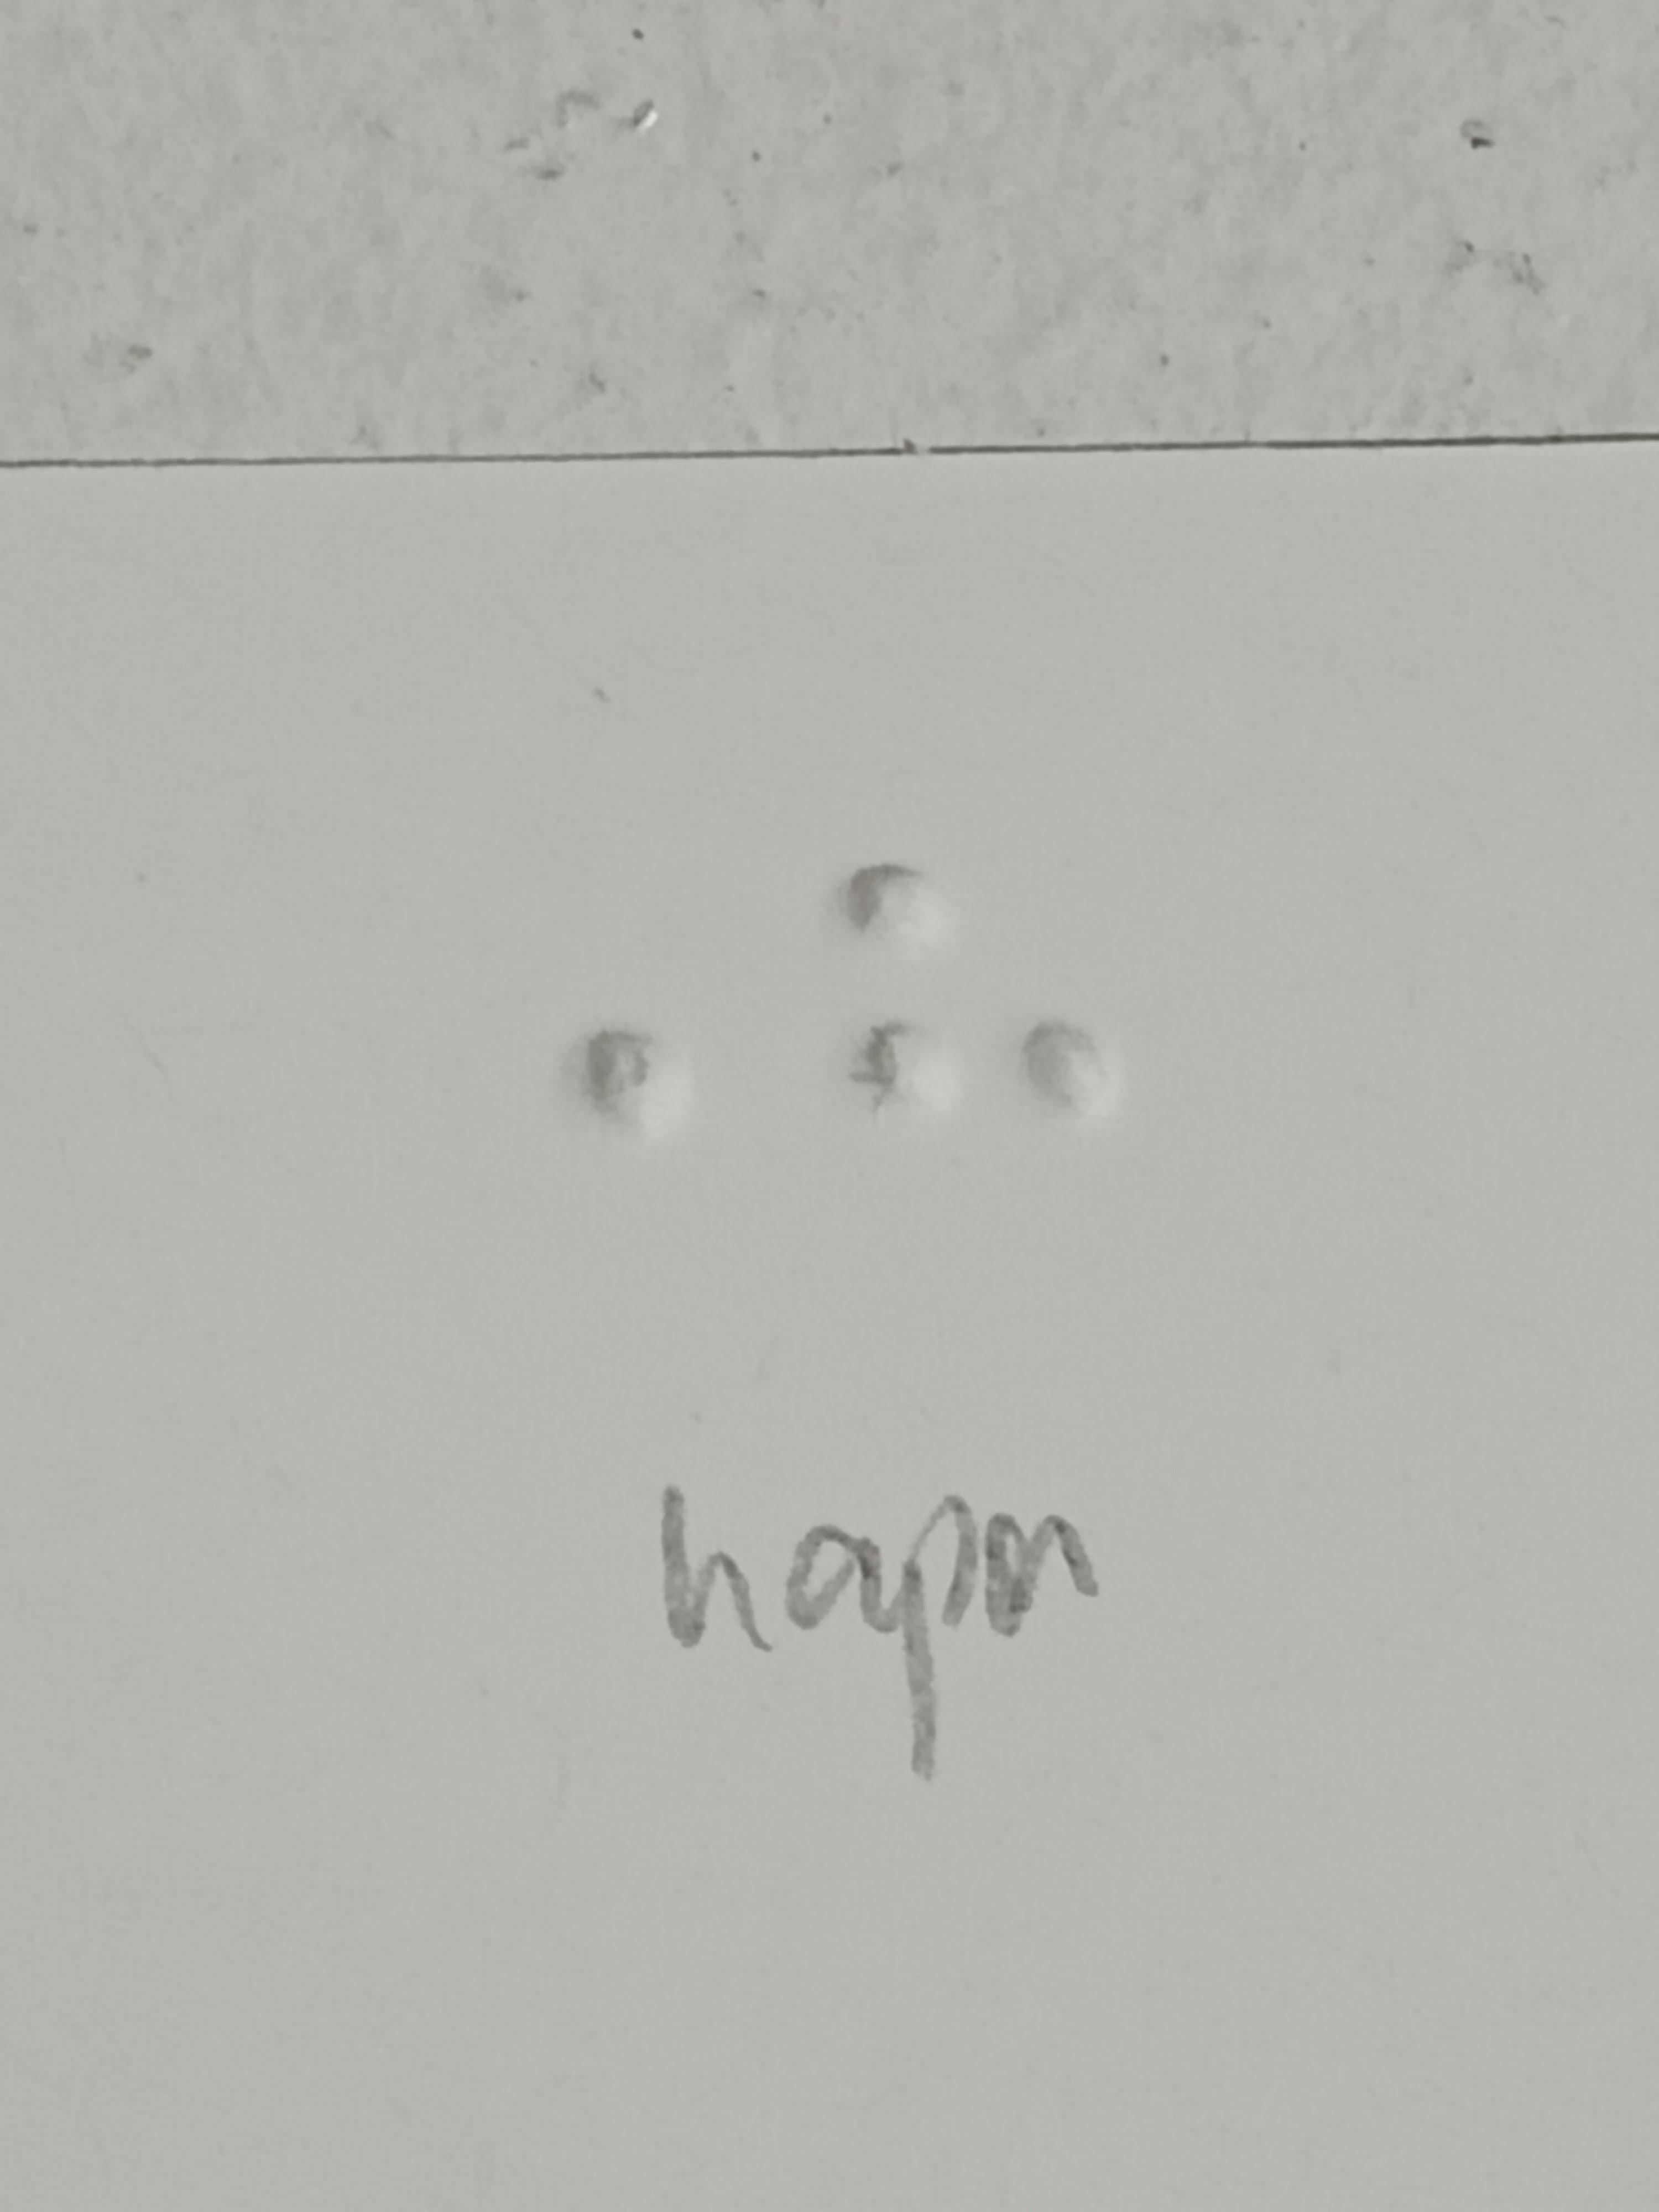dot_5: (408, 853, 681, 1325)
two_cell_alphabet_hapon: (842, 853, 1115, 1325)
